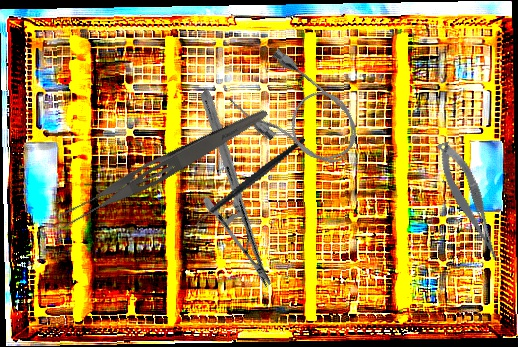Cannula: (224, 43, 372, 183)
Chopper: (178, 135, 323, 234)
Dressing Forceps: (53, 98, 272, 235)
Micro Scissor: (433, 136, 504, 267)
Needle Holder: (134, 88, 338, 290)
